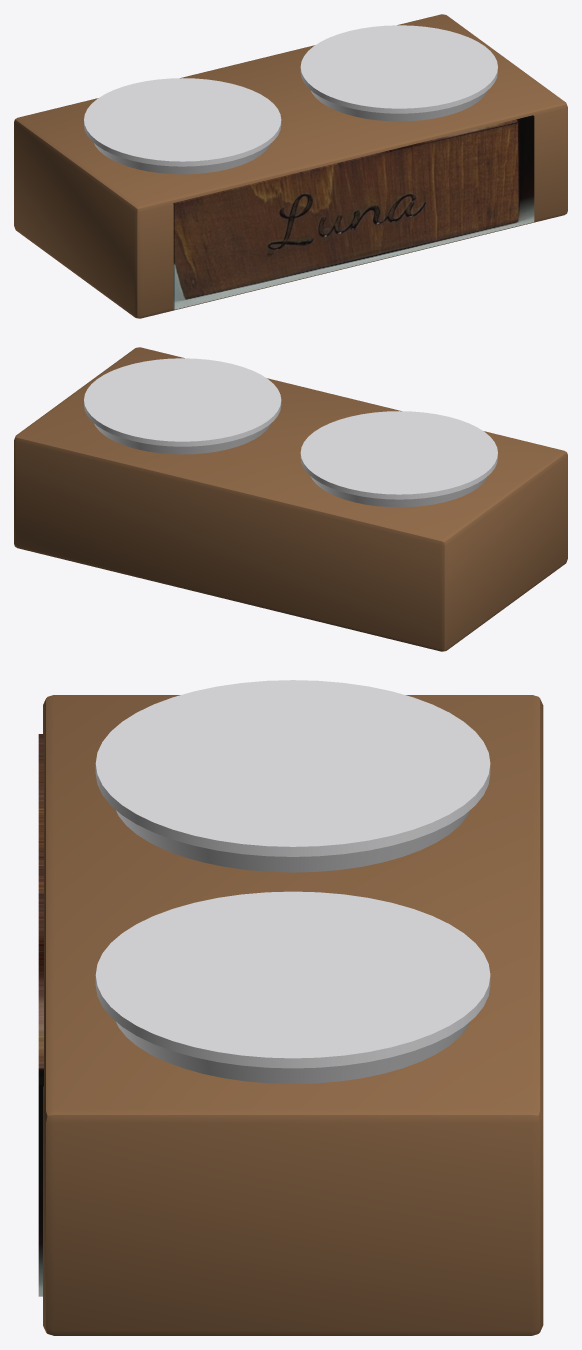
File: pet-bowls.glb
3 views of the same model, one above another, from view 1: azimuth 30°, elevation 25°; view 2: azimuth 150°, elevation 25°; view 3: azimuth 270°, elevation 25° (orthographic). The views are drawn at different scales.
Visible parts, largest first — view 1: Pet bowl stand; view 2: Pet bowl stand; view 3: Pet bowl stand.
Boxes of the visible parts, x1,y1,x2,y2 form: Pet bowl stand: (14, 14, 567, 318); Pet bowl stand: (14, 347, 567, 651); Pet bowl stand: (38, 680, 543, 1335).
Size of the model in its own units: 0.36 by 0.103 by 0.1815.
3 materials, 1 textured.
